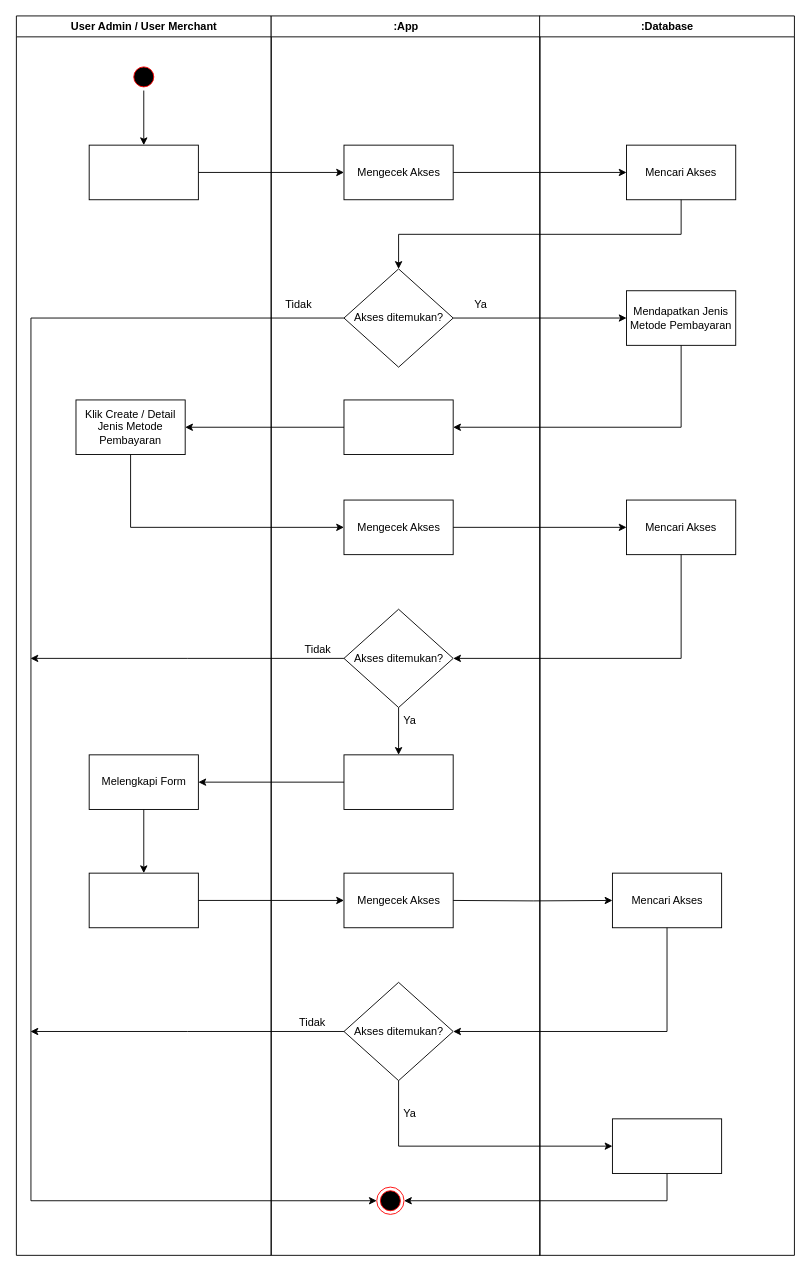
The diagram is 810 pixels wide and 1271 high, and some of its shapes have lost their labels. The shapes that lost their labels are listed below. From the top down, each one's centre as x and y in pixels, then its label:
At point (143, 172): "Membuka Menu Transactions --> Payment Method Types".
At point (398, 427): "Menampilkan List Jenis Metode Pembayarna".
At point (398, 781): "Menampilkan Form".
At point (143, 900): "Klik Simpan".
At point (667, 1145): "Menyimpan Data".
